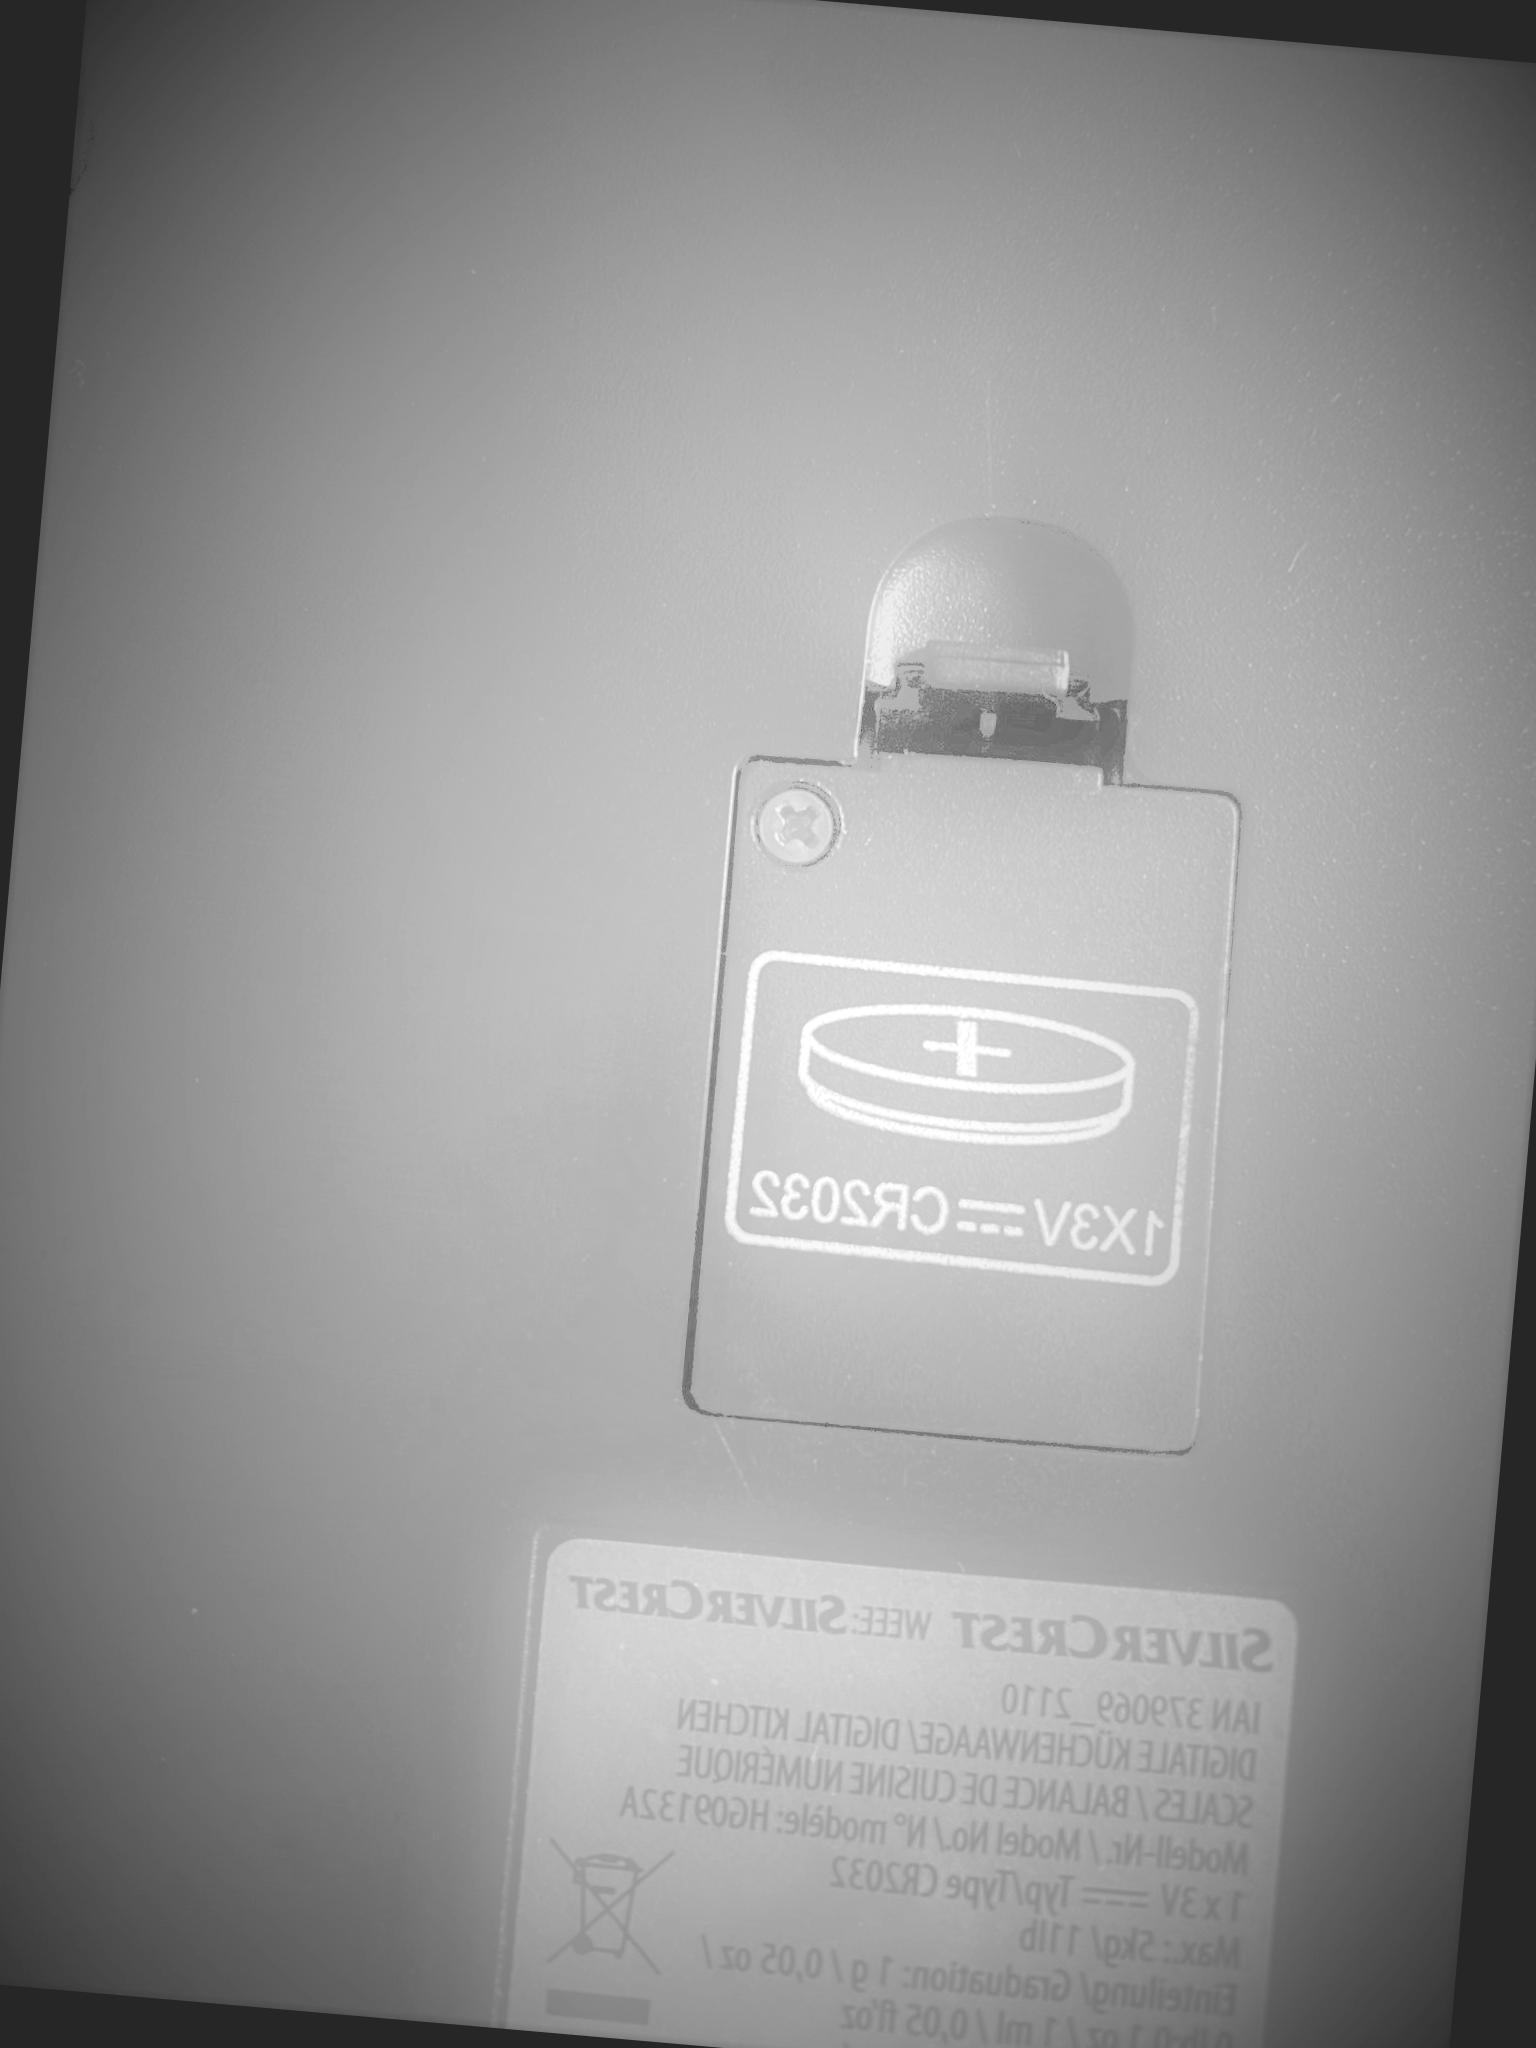screw: (752, 782, 841, 869)
